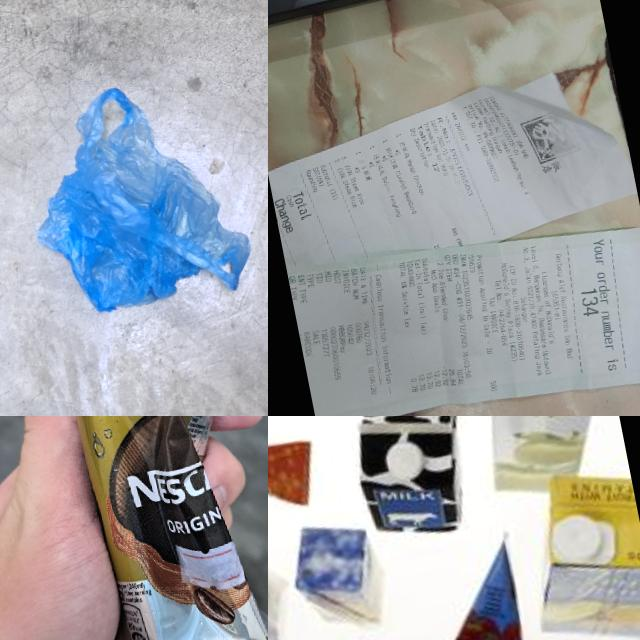caixinha: (513, 459, 640, 640), (345, 416, 480, 549), (459, 416, 631, 499)
lata: (50, 416, 268, 640)
papel: (268, 66, 640, 416)
sacola plástica: (9, 66, 260, 330)
tampa plástica: (548, 506, 608, 566), (384, 439, 430, 484)
